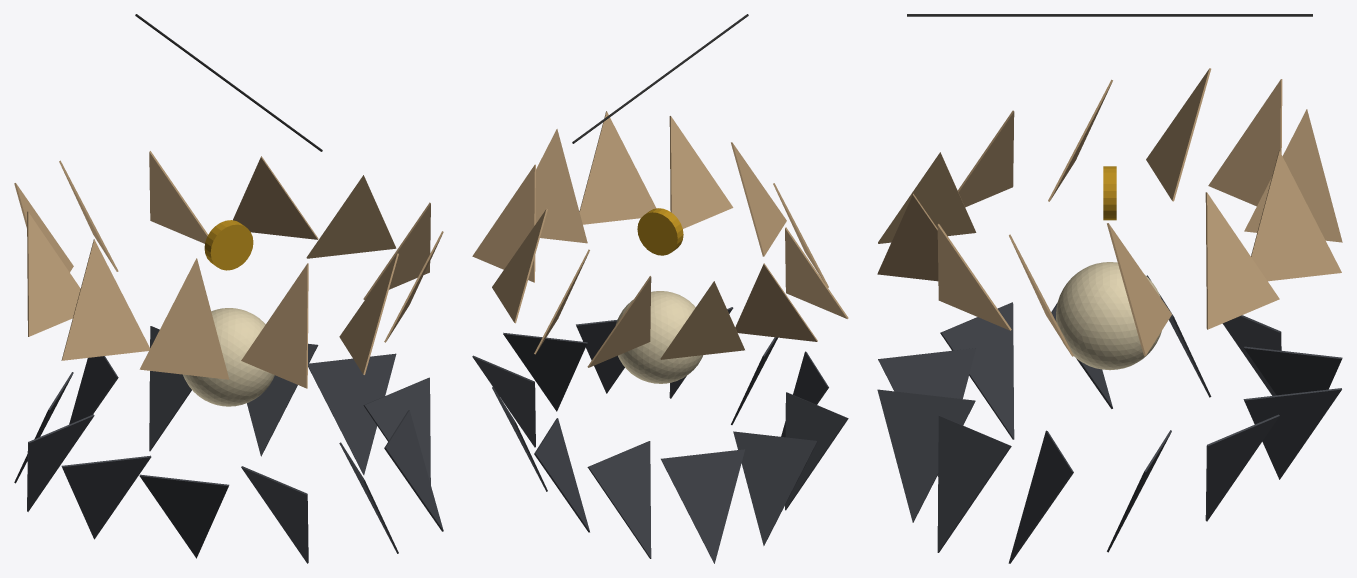
The model's file is tess_lumen_pendant.obj.
3 views of the same model, side by side, from view 1: azimuth 30°, elevation 25°; view 2: azimuth 150°, elevation 25°; view 3: azimuth 270°, elevation 25° (orthographic). The views are drawn at different scales.
Parts seen in each view (by area): view 1: geometry_8, geometry_10, geometry_23, geometry_24, geometry_6, geometry_12, geometry_11, geometry_9, geometry_22, geometry_20, geometry_1, geometry_7 (+14 smaller); view 2: geometry_15, geometry_13, geometry_2, geometry_24, geometry_17, geometry_4, geometry_0, geometry_14, geometry_12, geometry_1, geometry_22, geometry_11 (+13 smaller); view 3: geometry_24, geometry_18, geometry_5, geometry_20, geometry_3, geometry_9, geometry_14, geometry_19, geometry_16, geometry_7, geometry_4, geometry_17 (+13 smaller).
Boxes of the visible parts, <box> form: geometry_8: <box>139,258,229,379</box>; geometry_10: <box>61,239,149,360</box>; geometry_23: <box>308,353,396,474</box>; geometry_24: <box>183,308,274,406</box>; geometry_6: <box>241,263,308,388</box>; geometry_12: <box>27,211,80,336</box>; geometry_11: <box>61,455,151,539</box>; geometry_9: <box>139,474,229,558</box>; geometry_22: <box>306,175,396,258</box>; geometry_20: <box>233,156,318,239</box>; geometry_1: <box>363,377,430,484</box>; geometry_7: <box>241,466,308,563</box>; geometry_15: <box>661,449,744,563</box>; geometry_13: <box>733,431,817,545</box>; geometry_2: <box>579,111,656,224</box>; geometry_24: <box>615,291,703,383</box>; geometry_17: <box>587,441,651,558</box>; geometry_4: <box>669,116,733,228</box>; geometry_0: <box>535,129,587,243</box>; geometry_14: <box>660,281,744,359</box>; geometry_12: <box>735,263,817,341</box>; geometry_1: <box>503,332,587,411</box>; geometry_22: <box>472,164,535,282</box>; geometry_11: <box>785,392,848,510</box>; geometry_24: <box>1056,262,1161,370</box>; geometry_18: <box>1251,150,1341,281</box>; geometry_5: <box>877,389,975,522</box>; geometry_20: <box>1205,192,1279,329</box>; geometry_3: <box>937,415,1011,552</box>; geometry_9: <box>940,302,1014,439</box>; geometry_14: <box>1208,79,1282,206</box>; geometry_19: <box>1243,388,1341,479</box>; geometry_16: <box>1244,109,1342,242</box>; geometry_7: <box>878,348,976,476</box>; geometry_4: <box>877,193,938,281</box>; geometry_17: <box>1244,346,1342,395</box>.
Size of the model in its own units: 0.6872 by 0.7606 by 0.6872.
